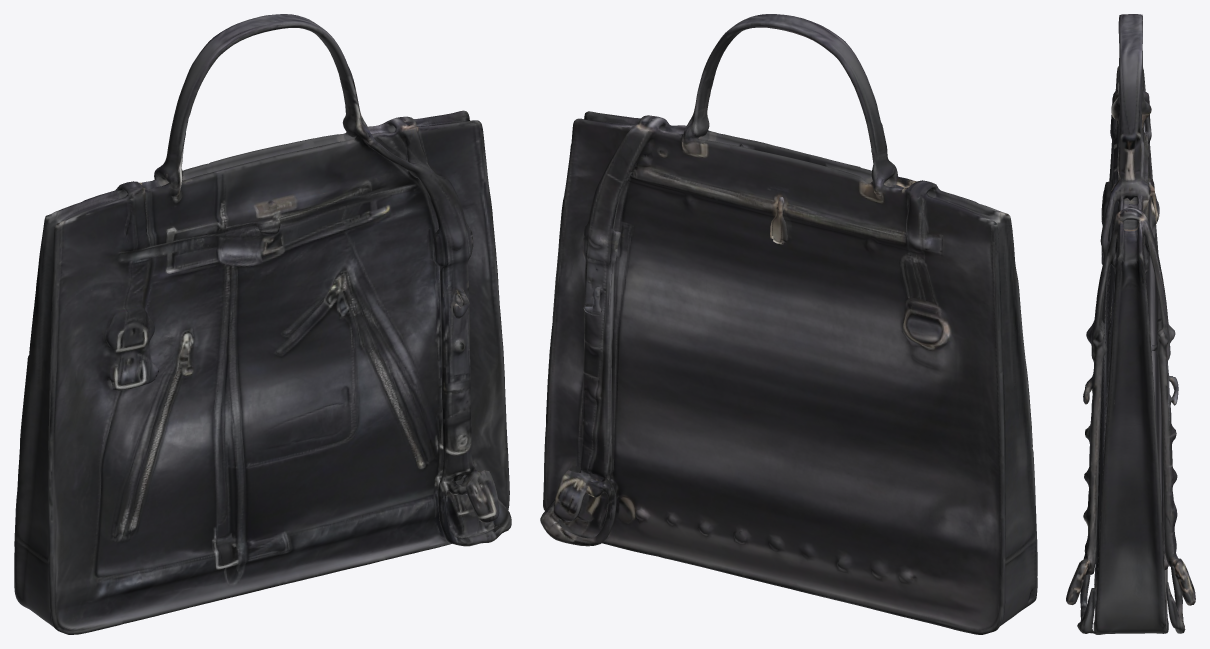
File: Black_Leather_Zipper__0829170814.gltf
The picture shows the model from 3 angles, left to right: view 1: azimuth 30°, elevation 25°; view 2: azimuth 150°, elevation 25°; view 3: azimuth 270°, elevation 25°; orthographic projection. The views are drawn at different scales.
Visible parts, largest first — view 1: Mesh_0; view 2: Mesh_0; view 3: Mesh_0.
Boxes of the visible parts, bbox=[...] form: Mesh_0: bbox=[14, 14, 511, 634]; Mesh_0: bbox=[540, 14, 1037, 634]; Mesh_0: bbox=[1066, 14, 1195, 634].
Bounding box in the file's own units: 1.75 × 2 × 0.4559.
Materials: 1 (1 with a texture image).
